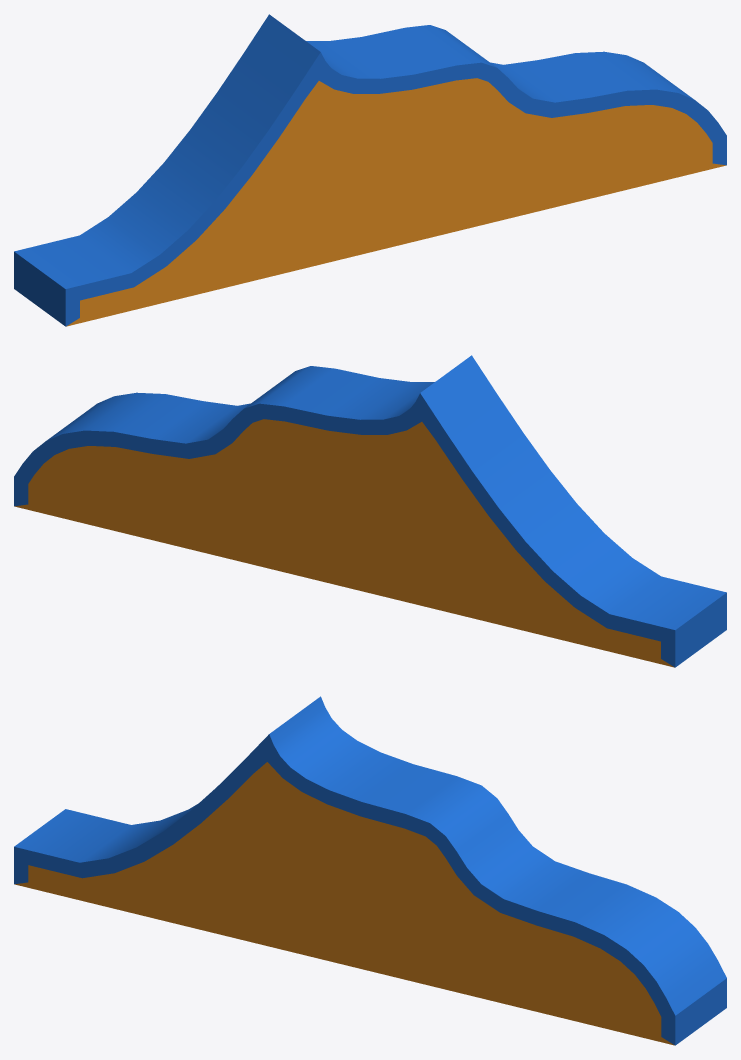
Rendered from StreetPlatform2.fbx.
The picture shows the model from 3 angles, top to bottom: view 1: azimuth 30°, elevation 25°; view 2: azimuth 150°, elevation 25°; view 3: azimuth 330°, elevation 25°; orthographic projection.
Visible parts, largest first — view 1: StreetPlatform2; view 2: StreetPlatform2; view 3: StreetPlatform2.
Boxes of the visible parts, x1,y1,x2,y2 form: StreetPlatform2: (14,14,726,326); StreetPlatform2: (14,355,726,667); StreetPlatform2: (14,696,726,1045).
Bounding box in the file's own units: 10997 × 3377 × 1486.
